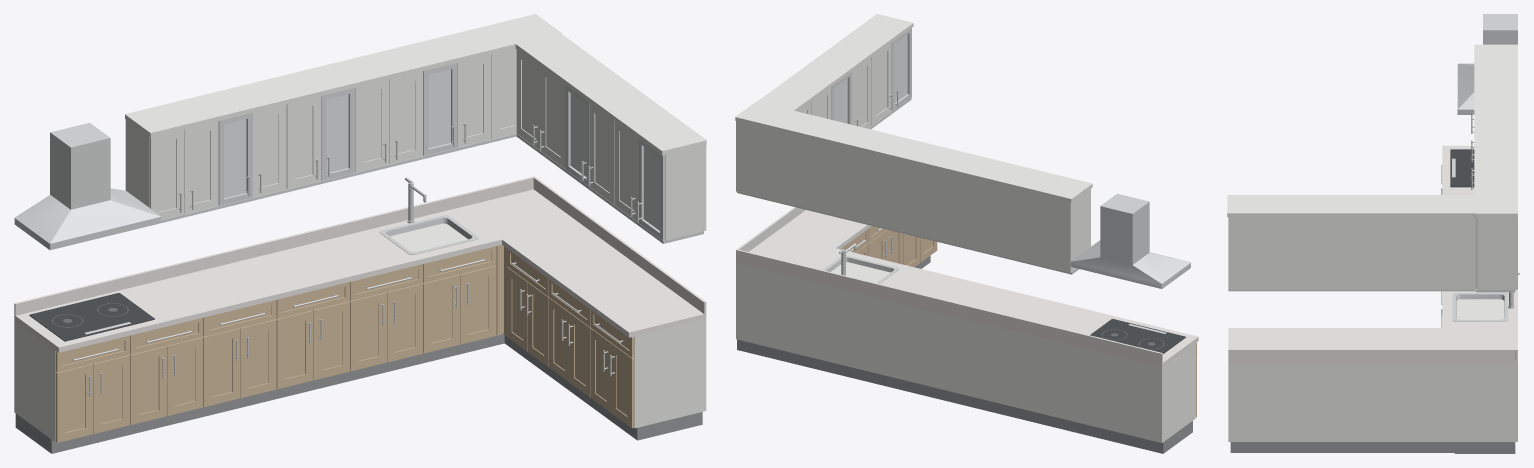
The picture shows the model from 3 angles, left to right: view 1: azimuth 30°, elevation 25°; view 2: azimuth 150°, elevation 25°; view 3: azimuth 270°, elevation 25°; orthographic projection. The views are drawn at different scales.
Parts seen in each view (by area): view 1: Tủ bếp chữ L Dài cạnh chính=4200; Dài cạnh phụ=2400; Sâu tủ ; view 2: Tủ bếp chữ L Dài cạnh chính=4200; Dài cạnh phụ=2400; Sâu tủ ; view 3: Tủ bếp chữ L Dài cạnh chính=4200; Dài cạnh phụ=2400; Sâu tủ .
Boxes of the visible parts, bbox=[...] form: Tủ bếp chữ L Dài cạnh chính=4200; Dài cạnh phụ=2400; Sâu tủ : bbox=[14, 14, 706, 453]; Tủ bếp chữ L Dài cạnh chính=4200; Dài cạnh phụ=2400; Sâu tủ : bbox=[735, 14, 1198, 453]; Tủ bếp chữ L Dài cạnh chính=4200; Dài cạnh phụ=2400; Sâu tủ : bbox=[1227, 14, 1519, 453].
Bounding box in the file's own units: 4.21 × 2.2 × 2.42.
